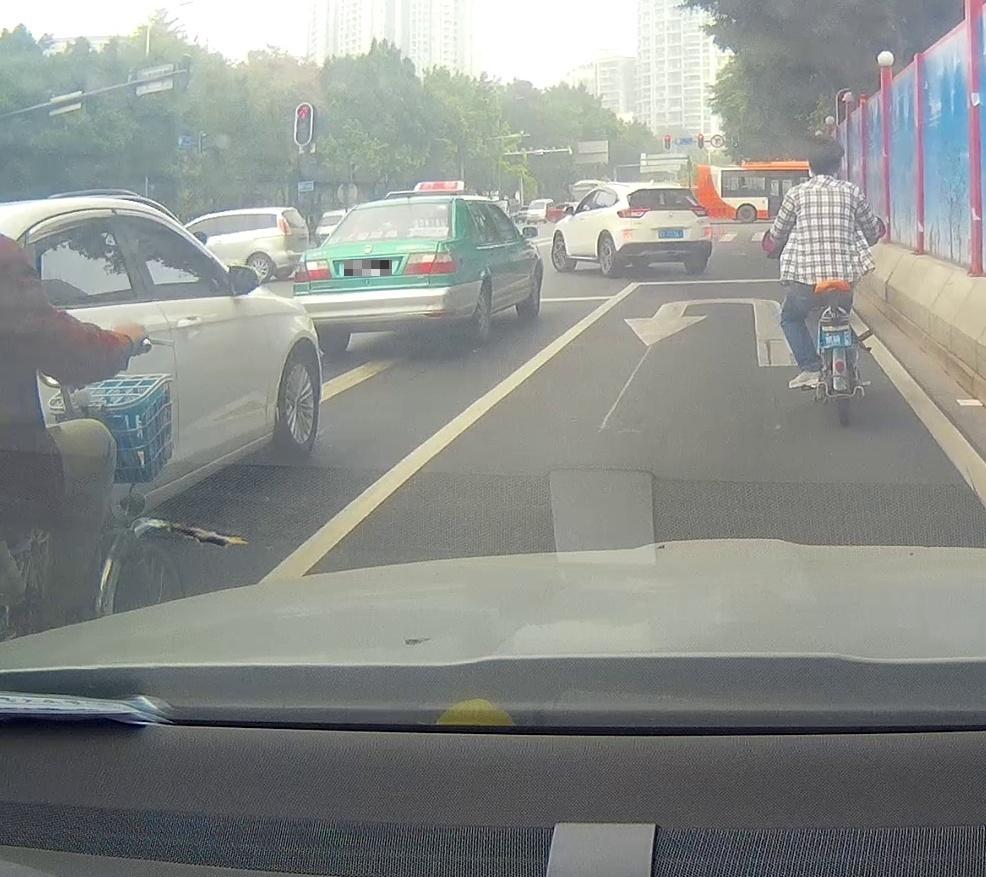L_light: (295, 259, 333, 283), (616, 205, 652, 218)
R_light: (402, 252, 456, 275), (688, 206, 708, 217)
T_light: (359, 231, 390, 241), (659, 187, 678, 193)
day-no: (293, 195, 458, 354), (616, 183, 712, 278)
plate_1: (344, 260, 392, 276)
